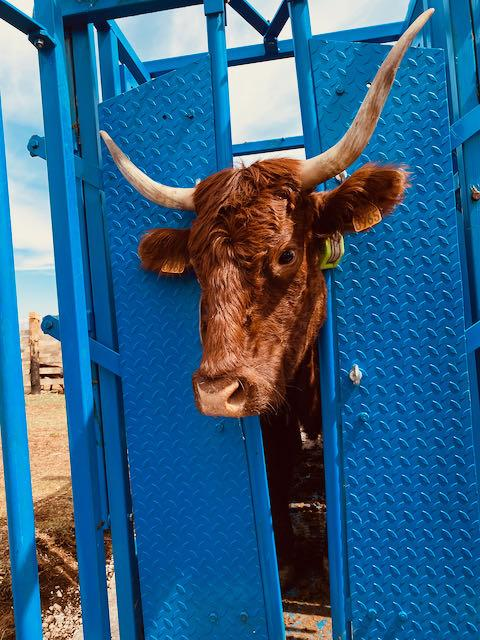muzzles: (183, 376, 271, 426)
